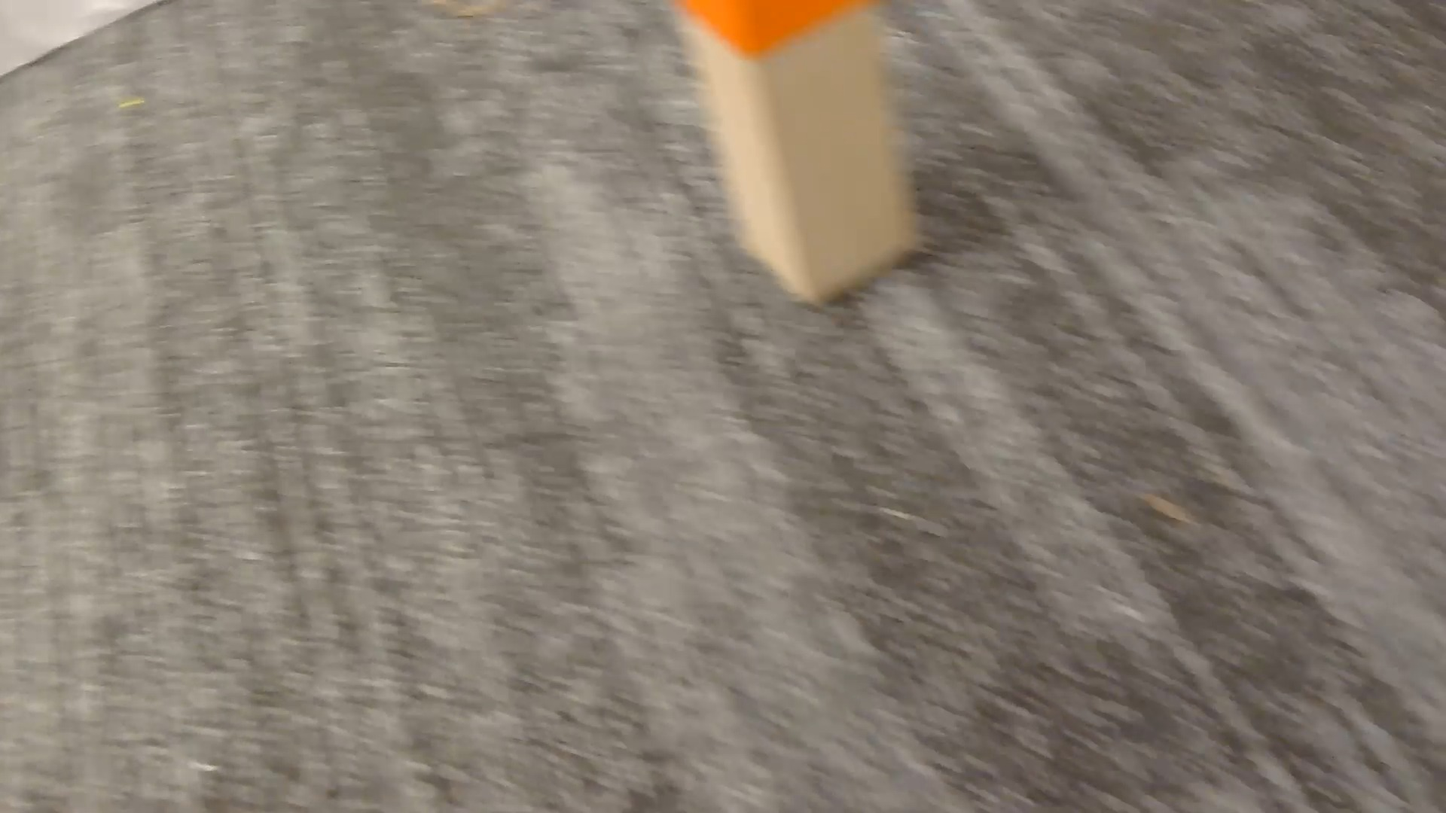Wooden Block: (673, 0, 916, 301)
